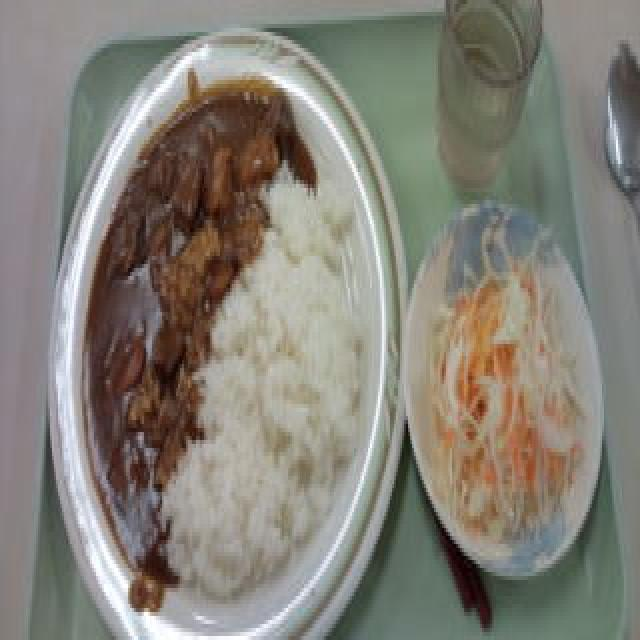Beef Curry: (86, 96, 252, 542)
Rice: (206, 184, 355, 571)
